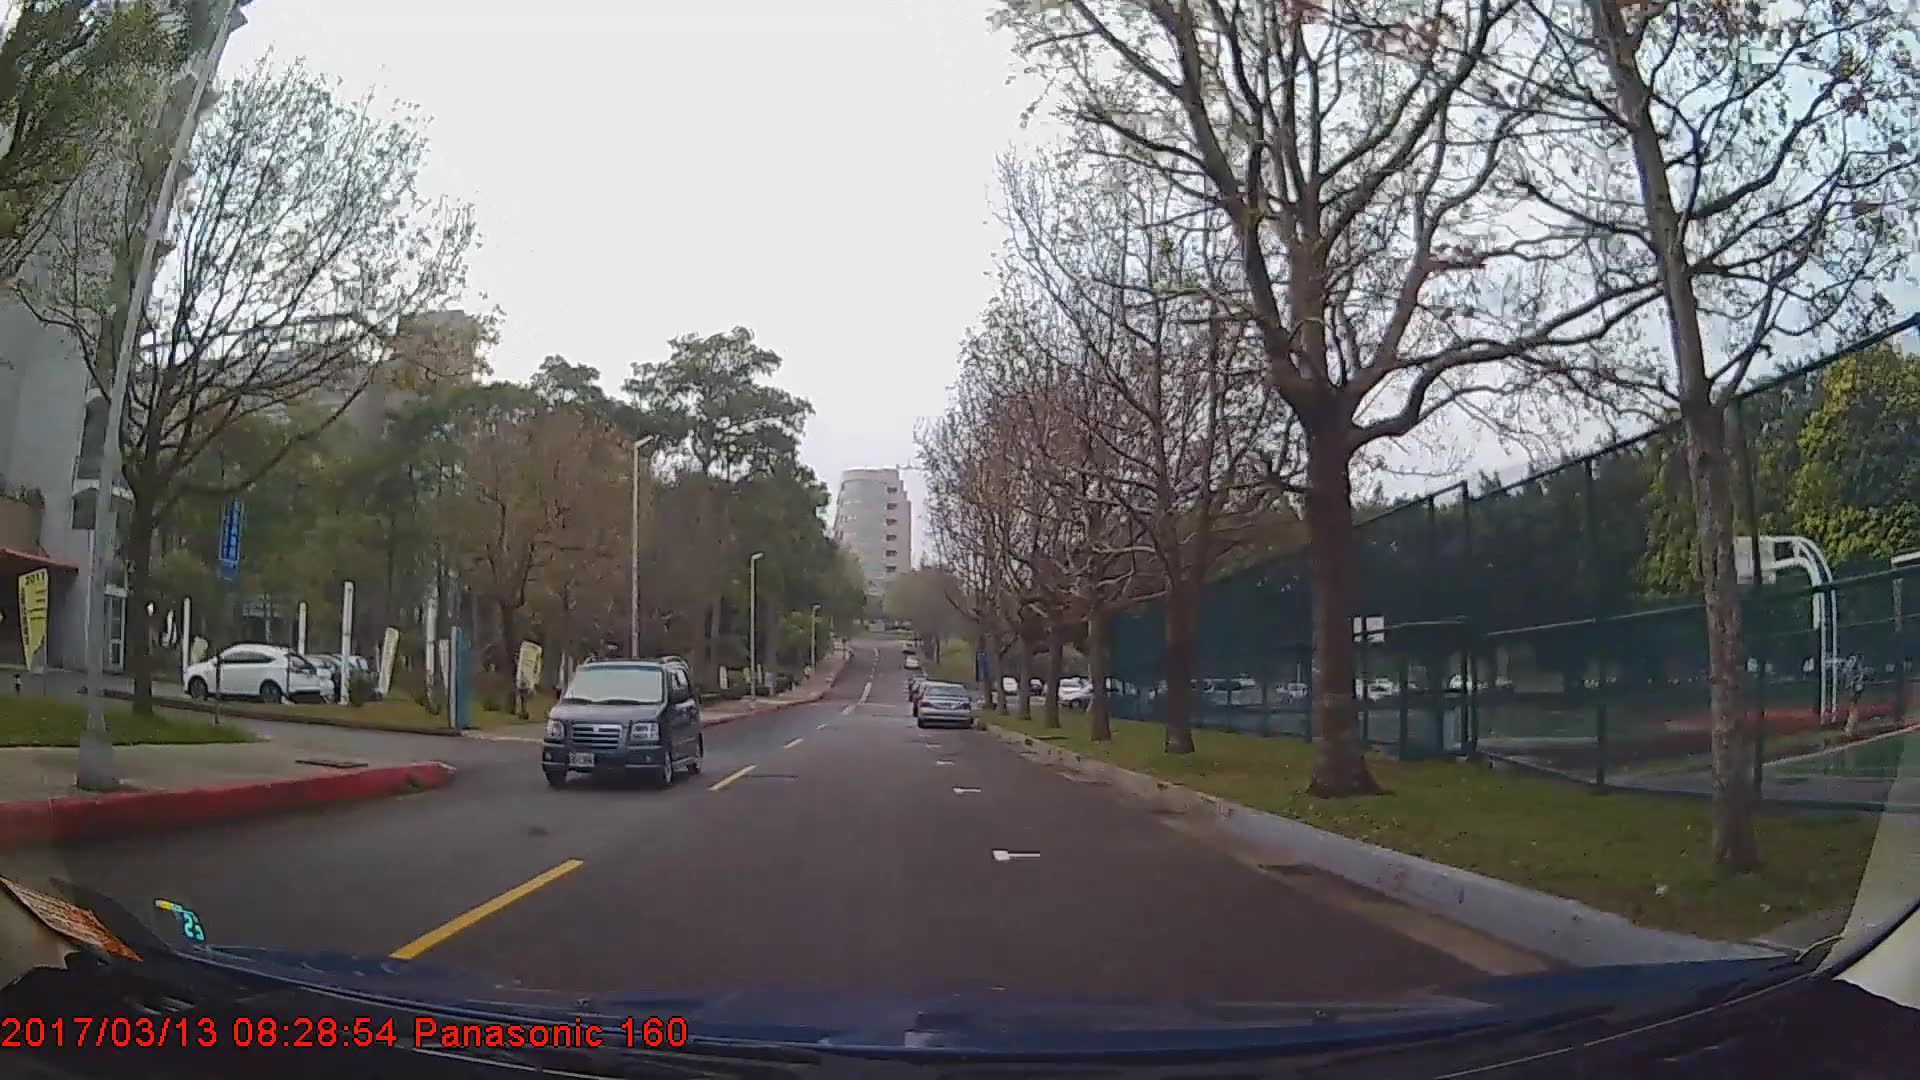vehicle: (541, 658, 702, 791), (179, 645, 318, 709), (914, 683, 972, 732)
